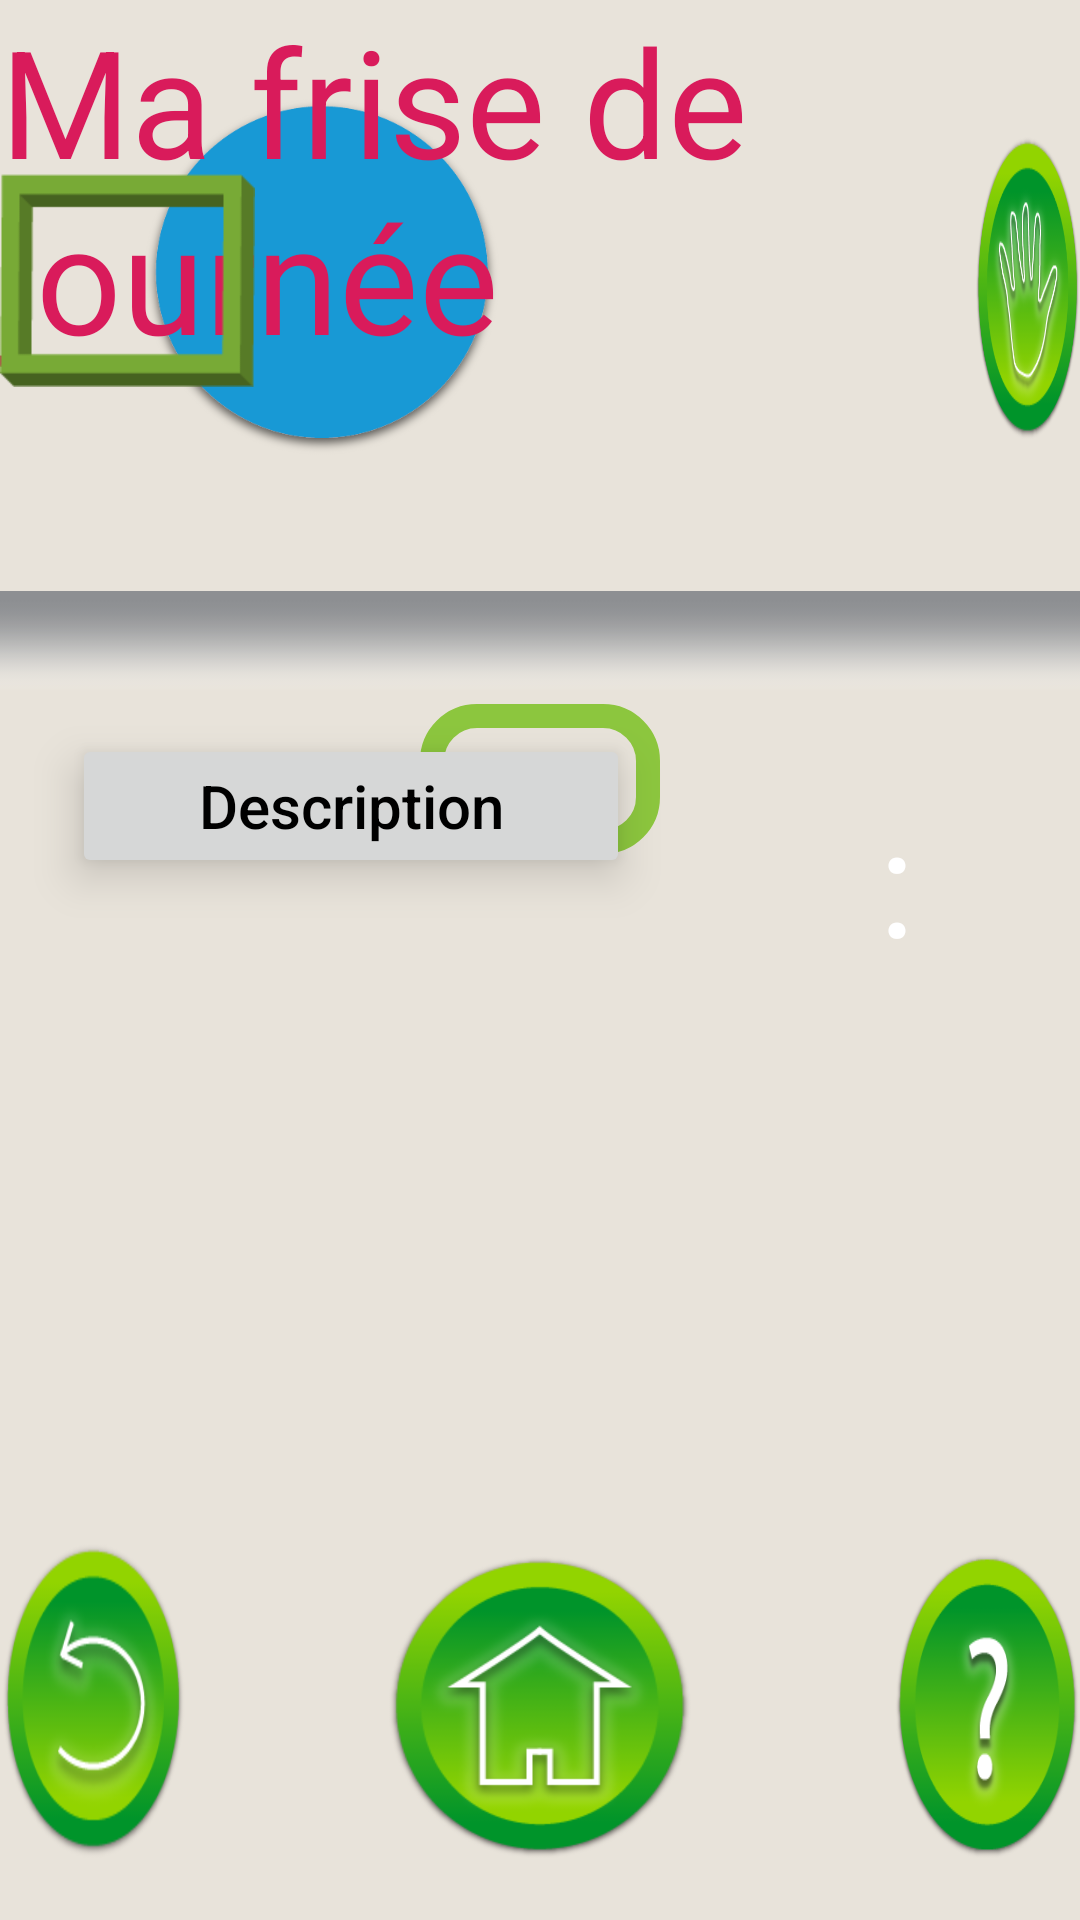

Icon click points for this 1080x1920 phone screenshot, format [x,y]:
back: [93,1700]
help: [987,1706]
home: [540,1707]
manual: [1027,288]
